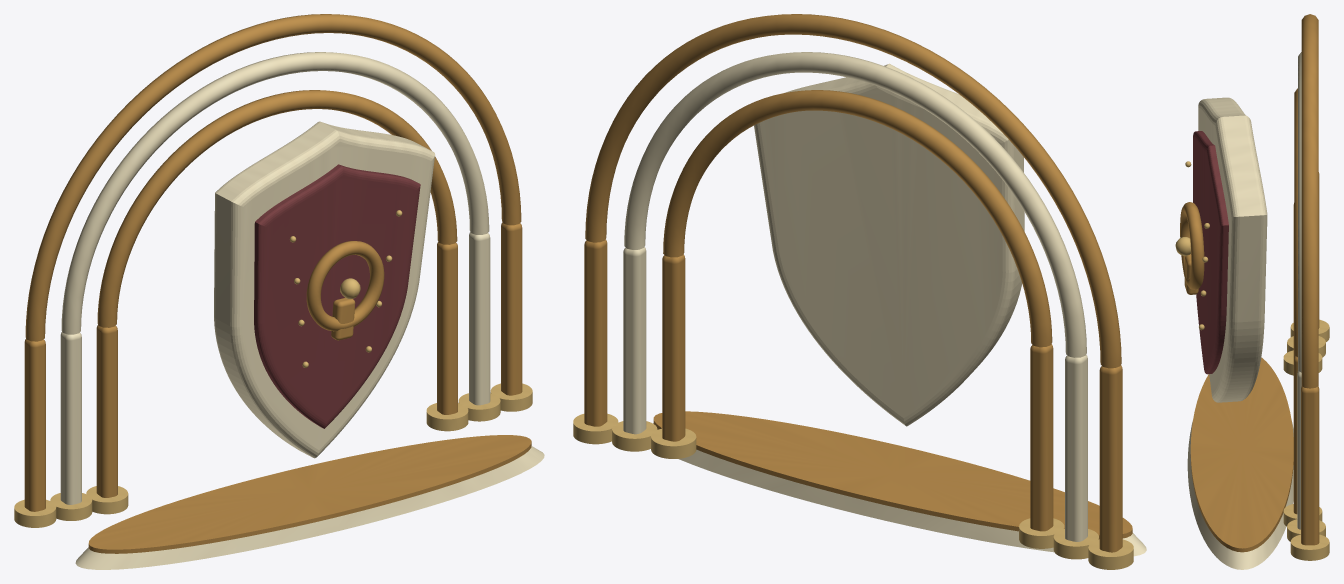
File: security.glb
The picture shows the model from 3 angles, left to right: view 1: azimuth 30°, elevation 25°; view 2: azimuth 150°, elevation 25°; view 3: azimuth 270°, elevation 25°; orthographic projection. The views are drawn at different scales.
Visible parts, largest first — view 1: detail_238, security_shield, detail_251, detail_232, detail_227, detail_222, detail_250, detail_228, detail_233, detail_235, detail_223, detail_230 (+9 smaller); view 2: security_shield, detail_251, detail_232, detail_227, detail_222, detail_250, detail_235, detail_233, detail_230, detail_223, detail_225, detail_228 (+6 smaller); view 3: detail_251, security_shield, detail_232, detail_238, detail_235, detail_250, detail_239, detail_227, detail_222, detail_225, detail_236, detail_230 (+9 smaller).
Part boxes in pixels (<box>): detail_238: <box>254,164,420,428</box>; security_shield: <box>214,121,435,458</box>; detail_251: <box>88,435,531,553</box>; detail_232: <box>25,14,521,341</box>; detail_227: <box>61,52,489,334</box>; detail_222: <box>97,90,457,327</box>; detail_250: <box>75,446,544,569</box>; detail_228: <box>60,332,81,504</box>; detail_233: <box>24,338,45,511</box>; detail_235: <box>501,222,522,395</box>; detail_223: <box>96,325,117,497</box>; detail_230: <box>469,232,490,405</box>; security_shield: <box>754,63,1024,426</box>; detail_251: <box>653,411,1132,539</box>; detail_232: <box>585,14,1121,368</box>; detail_227: <box>624,52,1086,357</box>; detail_222: <box>663,90,1052,347</box>; detail_250: <box>653,423,1146,556</box>; detail_235: <box>584,239,607,426</box>; detail_233: <box>1099,365,1122,552</box>; detail_230: <box>623,247,646,434</box>; detail_223: <box>1030,344,1053,531</box>; detail_225: <box>662,254,685,441</box>; detail_228: <box>1065,354,1087,541</box>; detail_251: <box>1190,357,1293,552</box>; security_shield: <box>1198,97,1267,402</box>; detail_232: <box>1301,14,1318,388</box>; detail_238: <box>1193,131,1228,374</box>; detail_235: <box>1301,386,1319,545</box>; detail_250: <box>1187,422,1293,569</box>; detail_239: <box>1180,202,1204,289</box>; detail_227: <box>1298,52,1301,372</box>; detail_222: <box>1294,88,1297,357</box>; detail_225: <box>1293,355,1297,514</box>; detail_236: <box>1290,534,1329,560</box>; detail_230: <box>1297,371,1301,529</box>.
Size of the model in its own units: 4.3 by 3.7 by 1.21.
